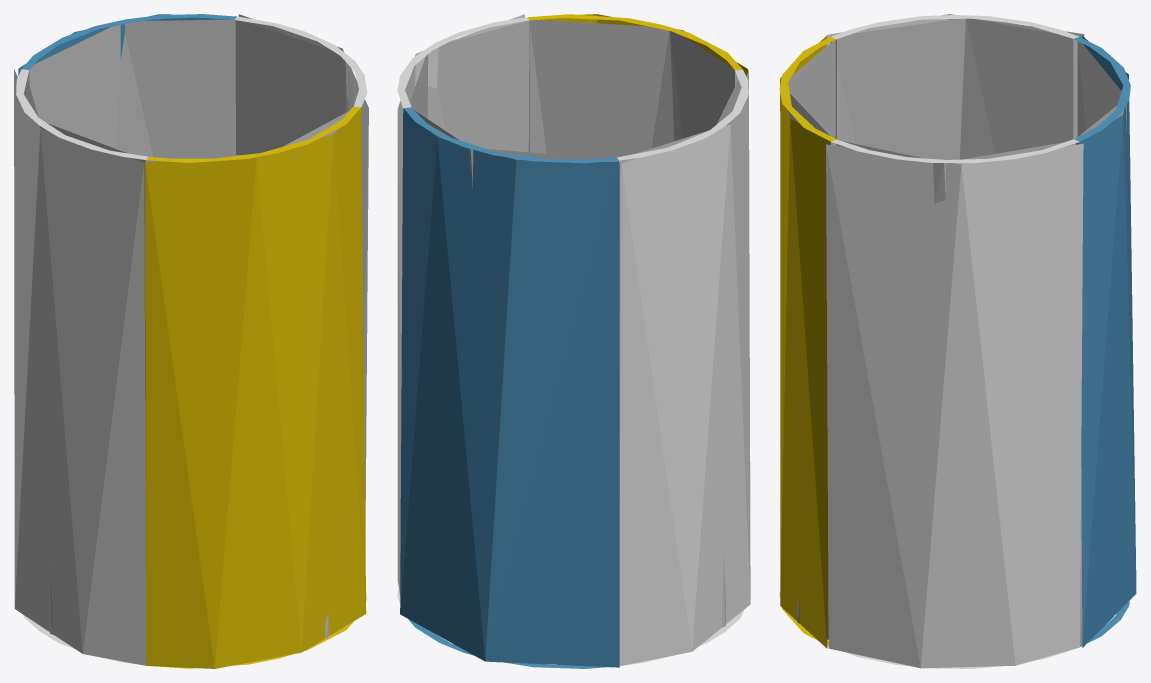
File: mod_lun_bleu_jaune.dae
The picture shows the model from 3 angles, left to right: view 1: azimuth 30°, elevation 25°; view 2: azimuth 150°, elevation 25°; view 3: azimuth 270°, elevation 25°; orthographic projection.
Parts seen in each view (by area): view 1: cylindre_jaune, Solid68, Solid58, Solid48; view 2: Solid58, Solid68, cylindre_jaune, Solid48; view 3: Solid48, Solid68, Solid58, cylindre_jaune.
Boxes of the visible parts, bbox=[...] form: cylindre_jaune: bbox=[145, 106, 366, 668]; Solid68: bbox=[14, 69, 147, 665]; Solid58: bbox=[18, 14, 236, 161]; Solid48: bbox=[234, 14, 368, 601]; Solid58: bbox=[400, 107, 619, 668]; Solid68: bbox=[617, 69, 750, 665]; cylindre_jaune: bbox=[528, 14, 747, 158]; Solid48: bbox=[397, 14, 529, 604]; Solid48: bbox=[826, 139, 1083, 668]; Solid68: bbox=[827, 14, 1084, 159]; Solid58: bbox=[1073, 36, 1136, 647]; cylindre_jaune: bbox=[779, 35, 836, 648].
Bounding box in the file's own units: 0.0638 × 0.064 × 0.1.
